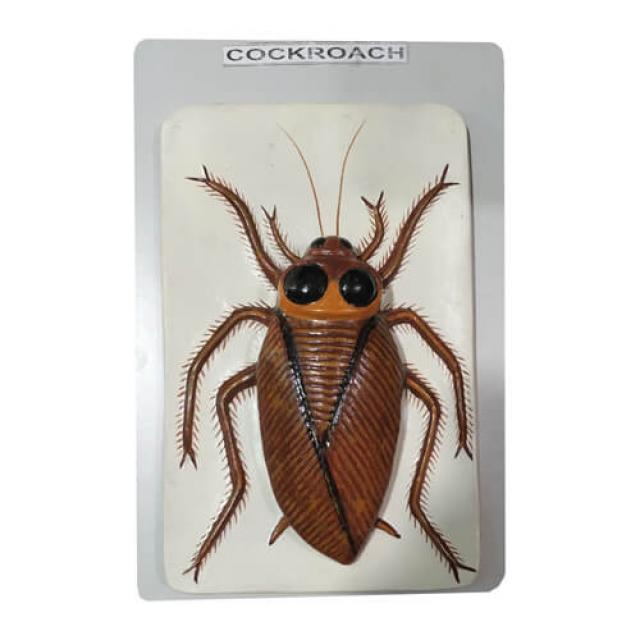Cockroach: (177, 112, 477, 588)
